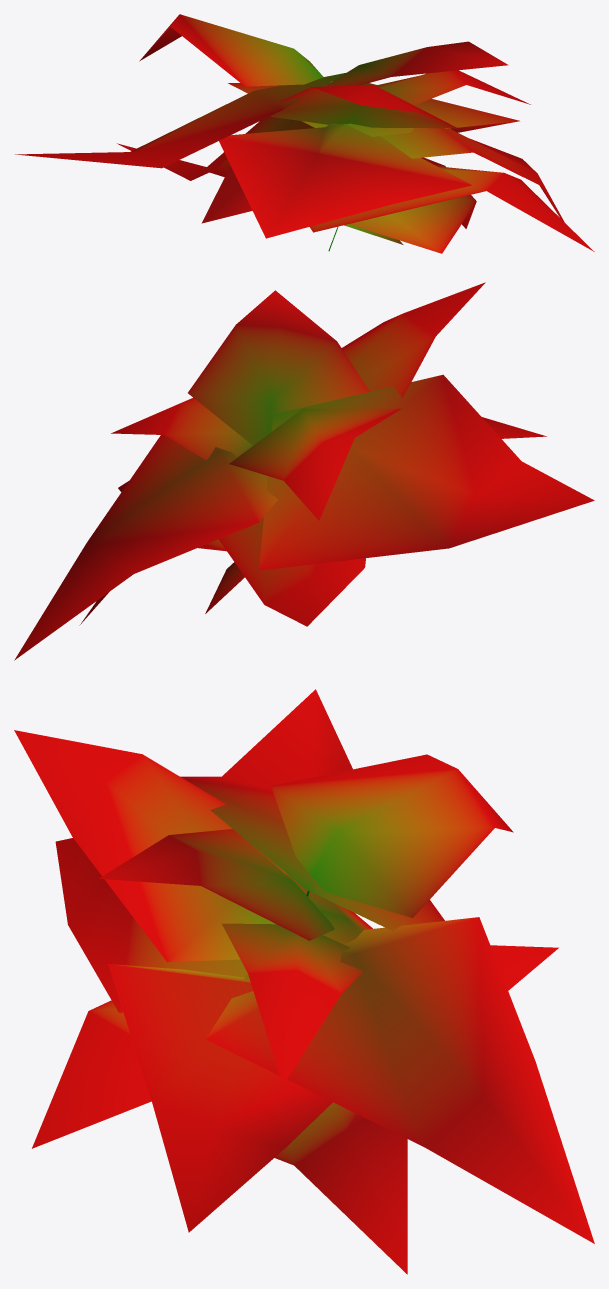
The model's file is Var6_LOD1.fbx.
3 views of the same model, one above another, from view 1: azimuth 30°, elevation 25°; view 2: azimuth 150°, elevation 25°; view 3: azimuth 270°, elevation 25° (orthographic). The views are drawn at different scales.
Parts seen in each view (by area): view 1: Var6_LOD1; view 2: Var6_LOD1; view 3: Var6_LOD1.
Boxes of the visible parts, <box> form: Var6_LOD1: <box>15,14,594,253</box>; Var6_LOD1: <box>14,282,594,660</box>; Var6_LOD1: <box>14,689,594,1274</box>.
Size of the model in its own units: 114 by 63.75 by 87.61.
